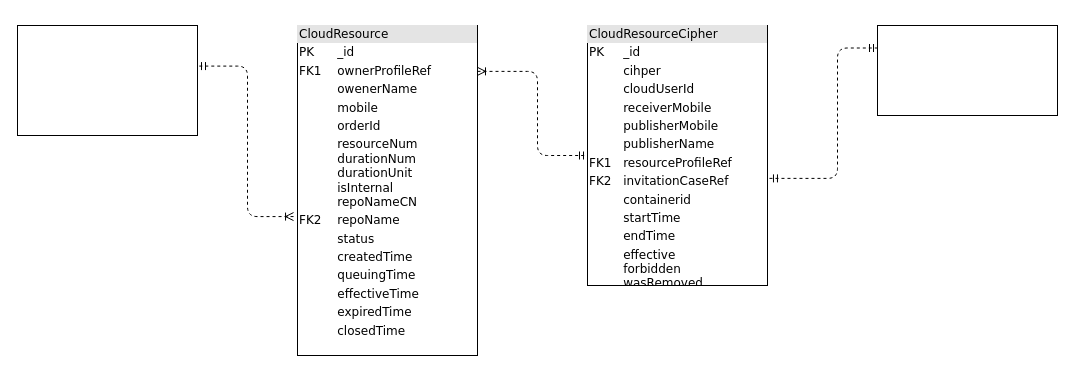
Some shapes in this 1075 by 373 pixel diagram are drawn without their labels. The shapes that lost their labels are listed below. From the top down, each one's centre as x and y in pixels, then its label:
point (107, 80): CloudResouceRepo PK _id FK1 repoName resourceNum isInternal nameCN
point (967, 70): InvitationCase PK _id fieldNames
